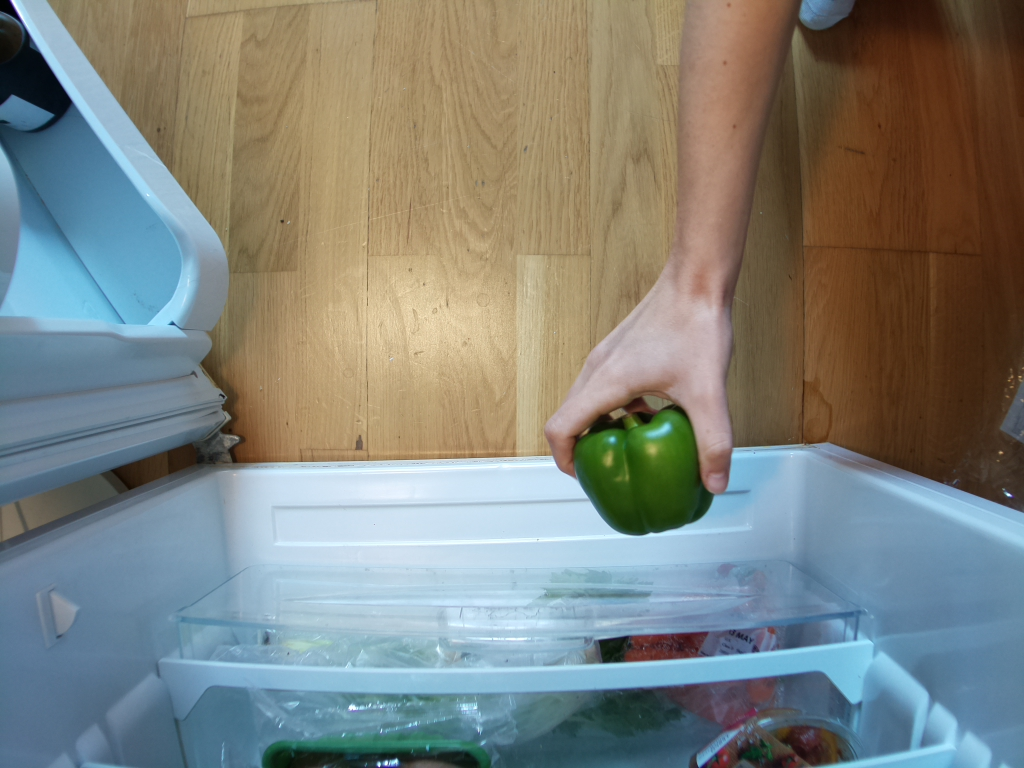pepper: (573, 411, 715, 536)
